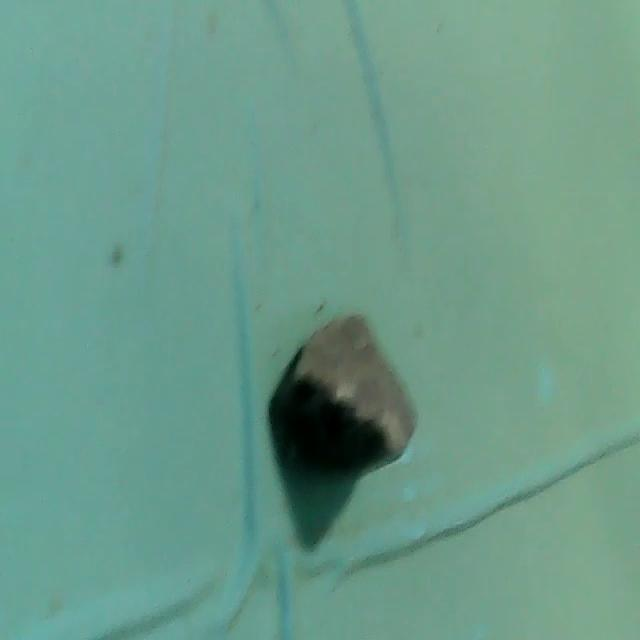rock: (268, 300, 425, 492)
